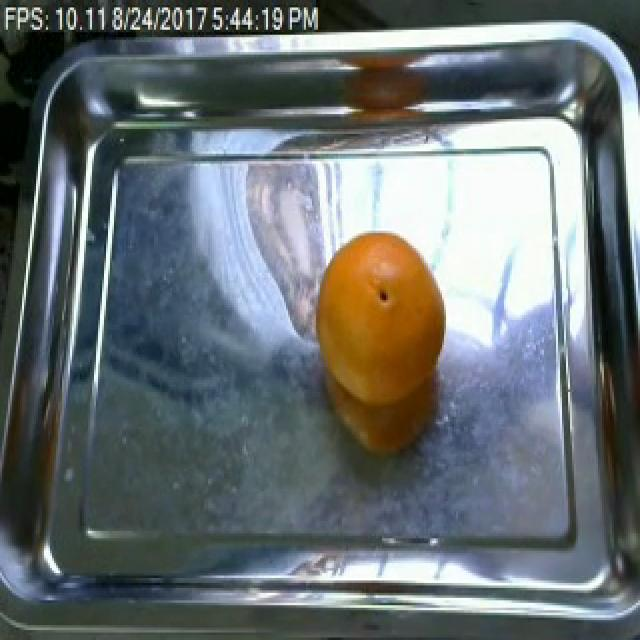Fruit: (310, 224, 456, 462)
